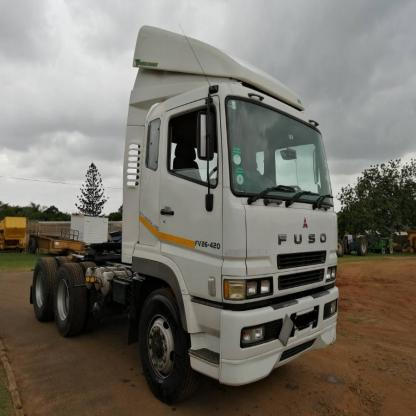truck: (30, 24, 338, 401)
